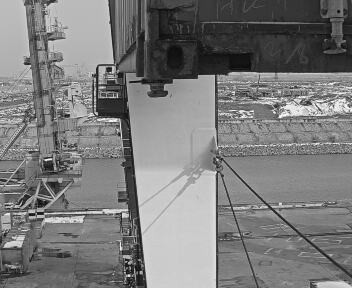twist_lock_1: (136, 72, 176, 105)
